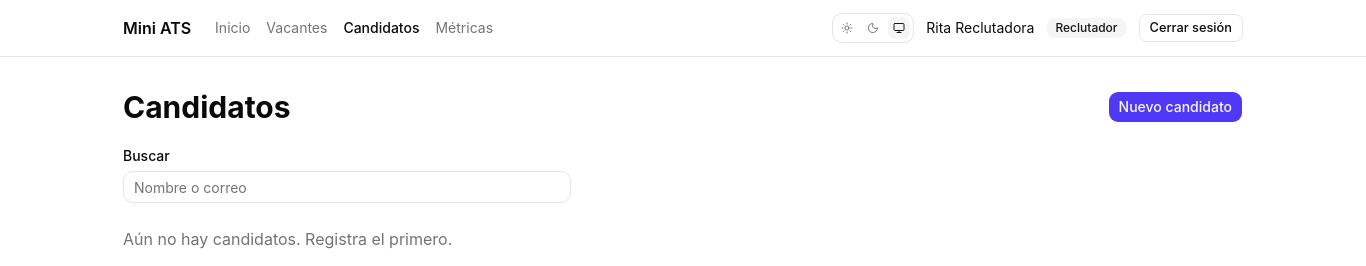
Test: CandidatesPage › shows a different empty state when the search matches nothing
The width and height of the screenshot is (1366, 266).
expect the text "Aún no hay candidatos. Registra el primero." is shown: met, box [123,229,452,249]
In the search field labelled "Buscar": (347, 187) [123,171,571,203], type "zzz"
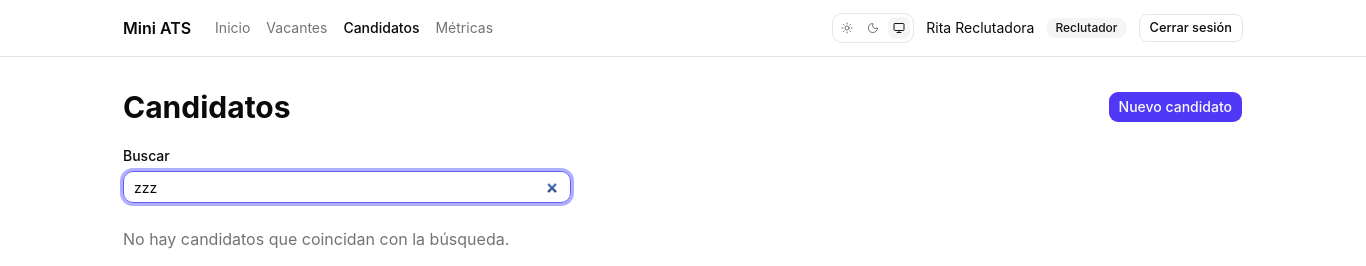
expect the text "No hay candidatos que coincidan con la búsqueda." is shown: met, box [123,229,509,249]
